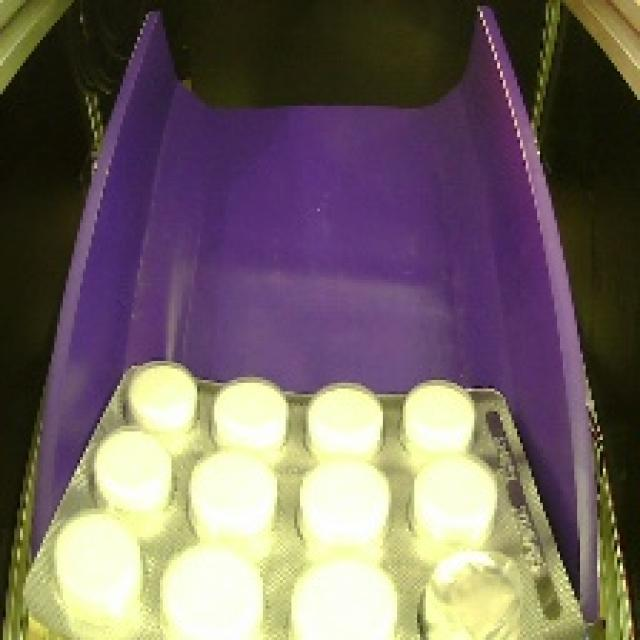med_plate: (8, 343, 603, 640)
